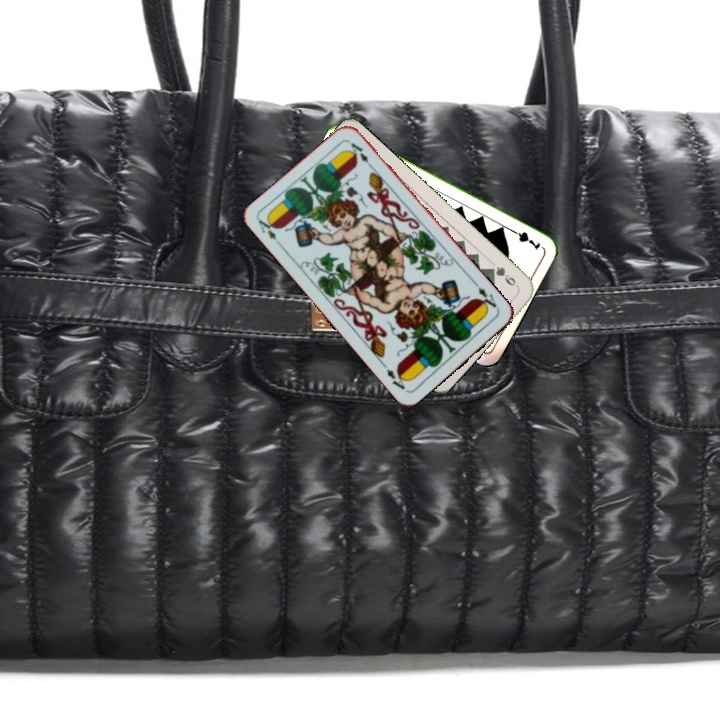EA: (254, 213, 285, 250), (473, 283, 501, 313)
G7: (505, 224, 543, 253)
G9: (485, 262, 521, 290)
